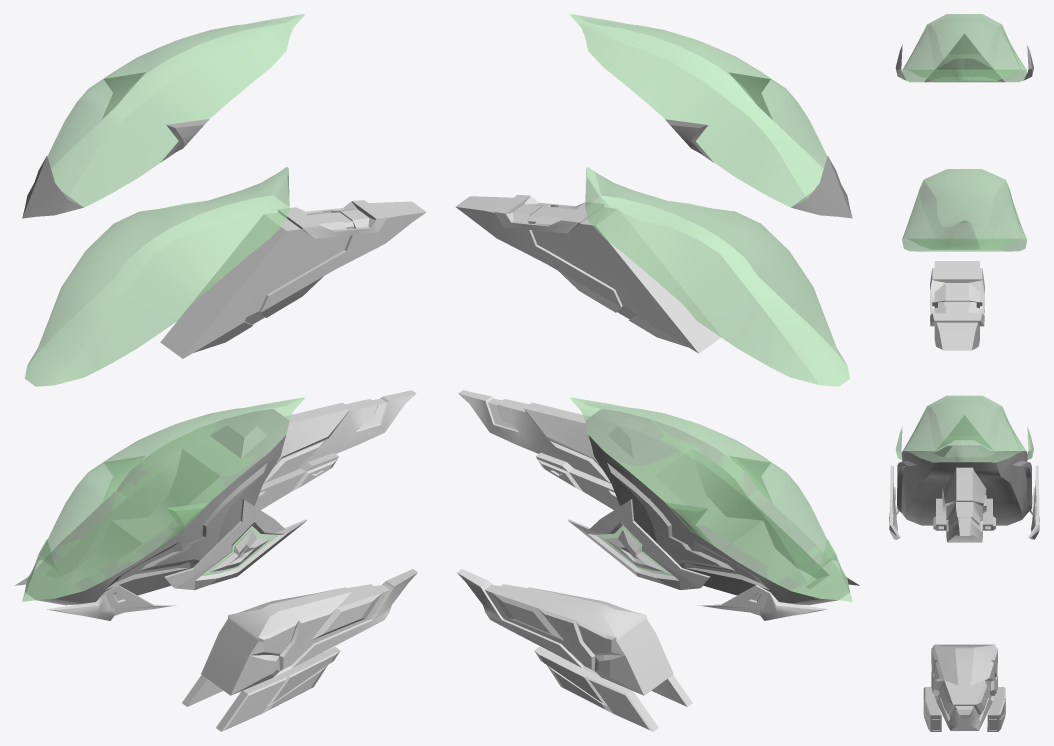
Rendered from Player_all.fbx.
The picture shows the model from 3 angles, left to right: view 1: azimuth 30°, elevation 25°; view 2: azimuth 150°, elevation 25°; view 3: azimuth 270°, elevation 25°; orthographic projection.
Visible parts, largest first — view 1: Cabina_A, Cuerpo_Base, Cabina_B, polySurface3, Cola_1, Cola_3, Cola_2, Cola_3a, polySurface4, Medio_1, Cola_2a, Frente_2a (+2 smaller); view 2: Cabina_A, Cuerpo_Base, Cabina_B, polySurface3, Cola_1, Cola_3, Cola_2, Cola_3a, polySurface4, Medio_1, Cola_2a, Frente_2a (+2 smaller); view 3: Cabina_A, Cuerpo_Base, polySurface3, Cabina_B, Cola_3, Cola_1, Cola_2, polySurface4, Cola_3a, Medio_1, Cola_2a.
Part boxes in pixels (left/top/right/bottom): Cabina_A: left=25, top=167, right=289, bottom=386; Cuerpo_Base: left=25, top=409, right=289, bottom=605; Cabina_B: left=22, top=397, right=304, bottom=601; polySurface3: left=47, top=14, right=304, bottom=207; Cola_1: left=160, top=200, right=426, bottom=358; Cola_3: left=201, top=569, right=417, bottom=695; Cola_2: left=263, top=390, right=416, bottom=483; Cola_3a: left=182, top=647, right=340, bottom=731; polySurface4: left=22, top=72, right=209, bottom=218; Medio_1: left=175, top=499, right=306, bottom=590; Cola_2a: left=254, top=453, right=338, bottom=510; Frente_2a: left=104, top=585, right=177, bottom=615; Cabina_A: left=585, top=167, right=849, bottom=386; Cuerpo_Base: left=585, top=409, right=849, bottom=605; Cabina_B: left=570, top=397, right=852, bottom=601; polySurface3: left=570, top=14, right=827, bottom=207; Cola_1: left=455, top=194, right=721, bottom=353; Cola_3: left=457, top=569, right=673, bottom=695; Cola_2: left=458, top=390, right=611, bottom=483; Cola_3a: left=534, top=646, right=692, bottom=731; polySurface4: left=665, top=73, right=852, bottom=218; Medio_1: left=567, top=499, right=699, bottom=589; Cola_2a: left=536, top=453, right=619, bottom=509; Frente_2a: left=697, top=585, right=770, bottom=615; Cabina_A: left=902, top=169, right=1026, bottom=251; Cuerpo_Base: left=897, top=445, right=1032, bottom=525; polySurface3: left=902, top=14, right=1026, bottom=82; Cabina_B: left=895, top=395, right=1033, bottom=462; Cola_3: left=931, top=644, right=997, bottom=730; Cola_1: left=930, top=261, right=984, bottom=350; Cola_2: left=942, top=467, right=986, bottom=542; polySurface4: left=895, top=34, right=1033, bottom=82; Cola_3a: left=923, top=687, right=1005, bottom=731; Medio_1: left=889, top=465, right=1039, bottom=539; Cola_2a: left=933, top=498, right=995, bottom=530.
Bounding box in the file's own units: 508 × 836 × 169.
